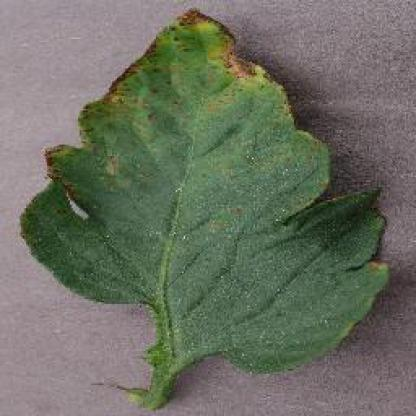bad leaf: (17, 3, 398, 378)
